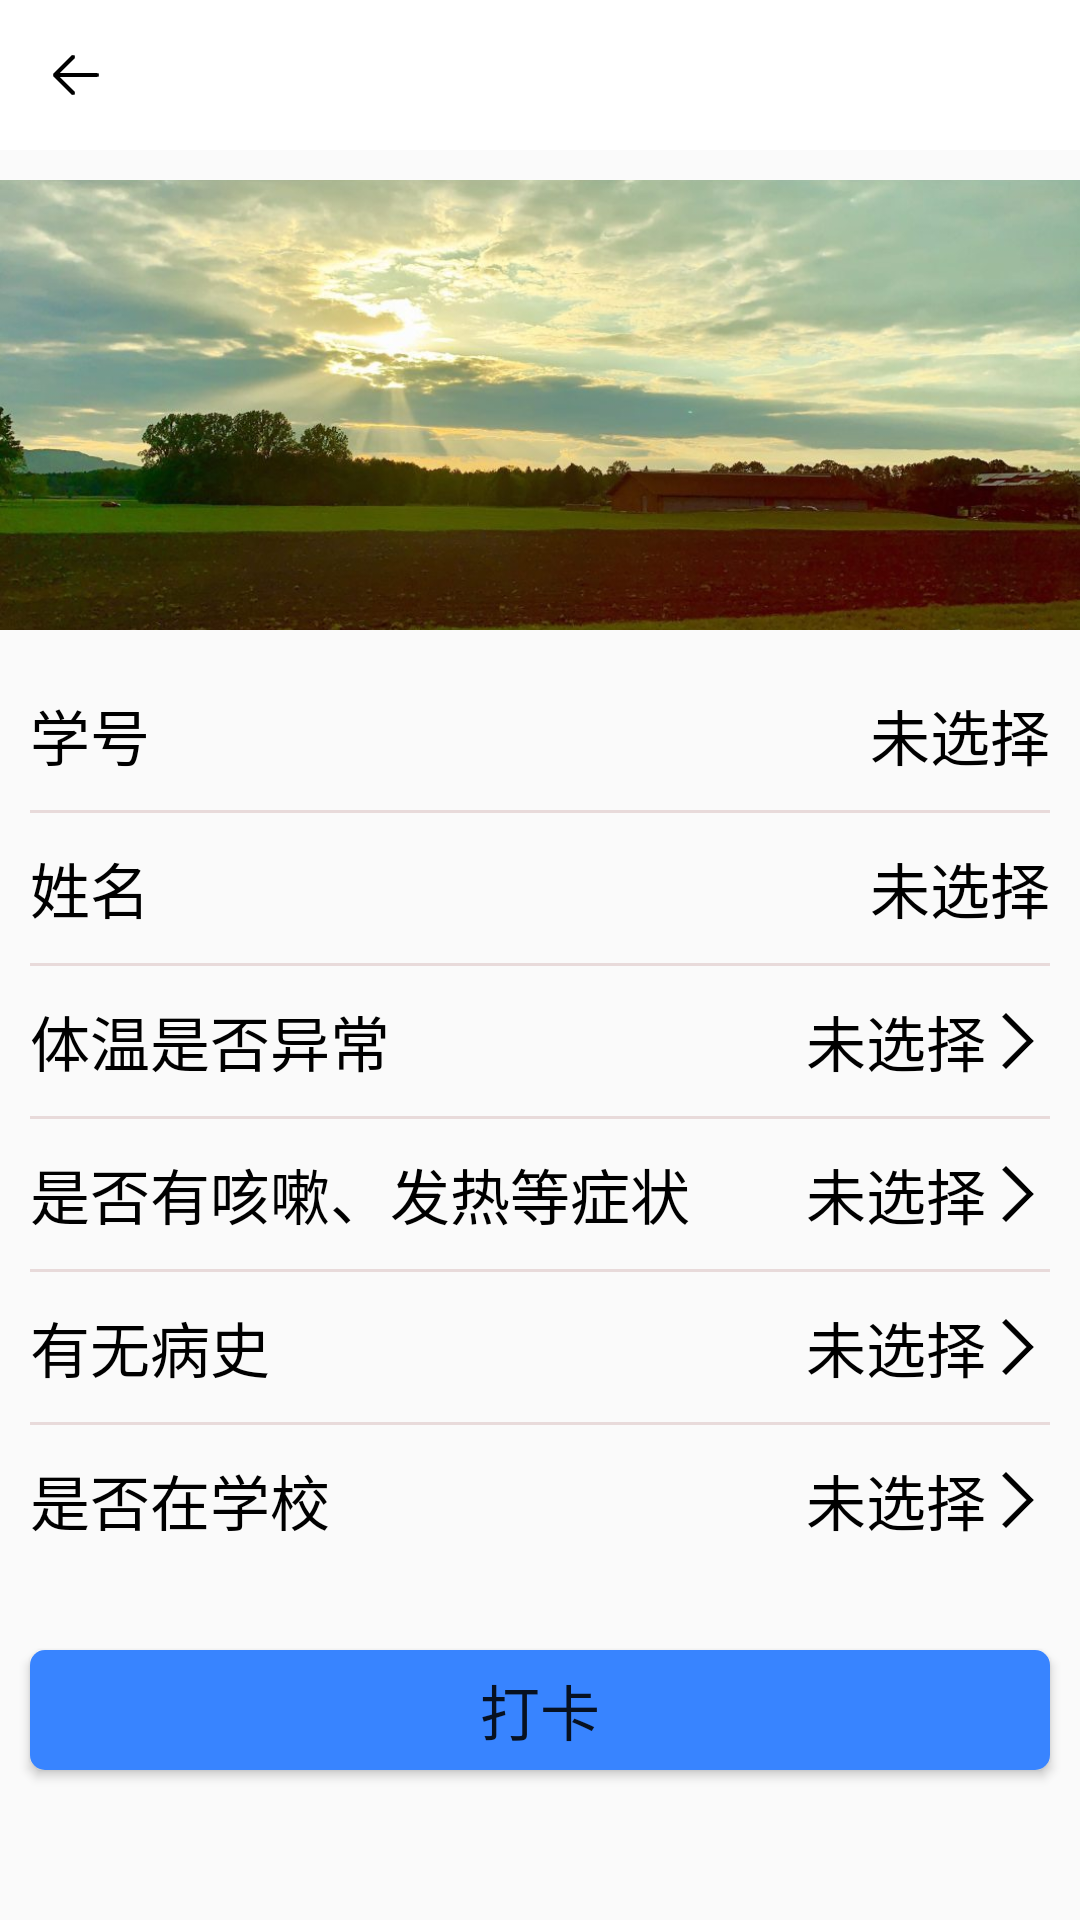

Icon click points for this 1080 x 1920 phone screenshot, format [x,y]:
home back: [76,75]
